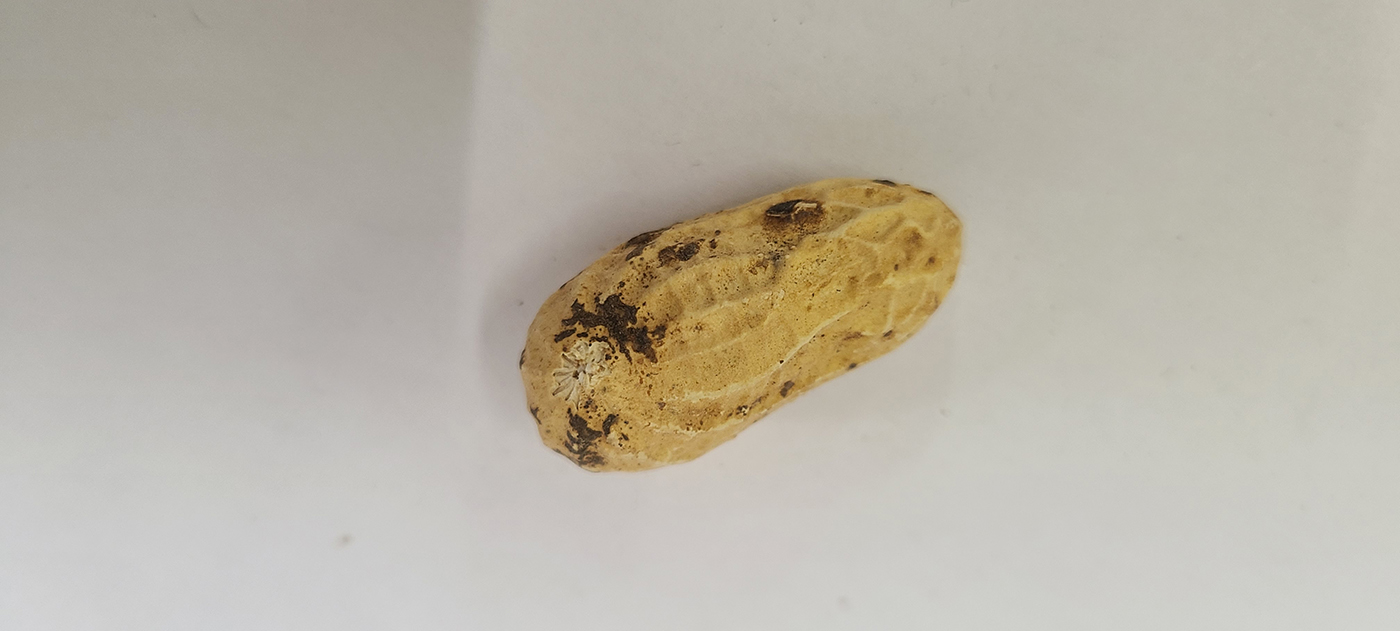h: (514, 170, 966, 478)
